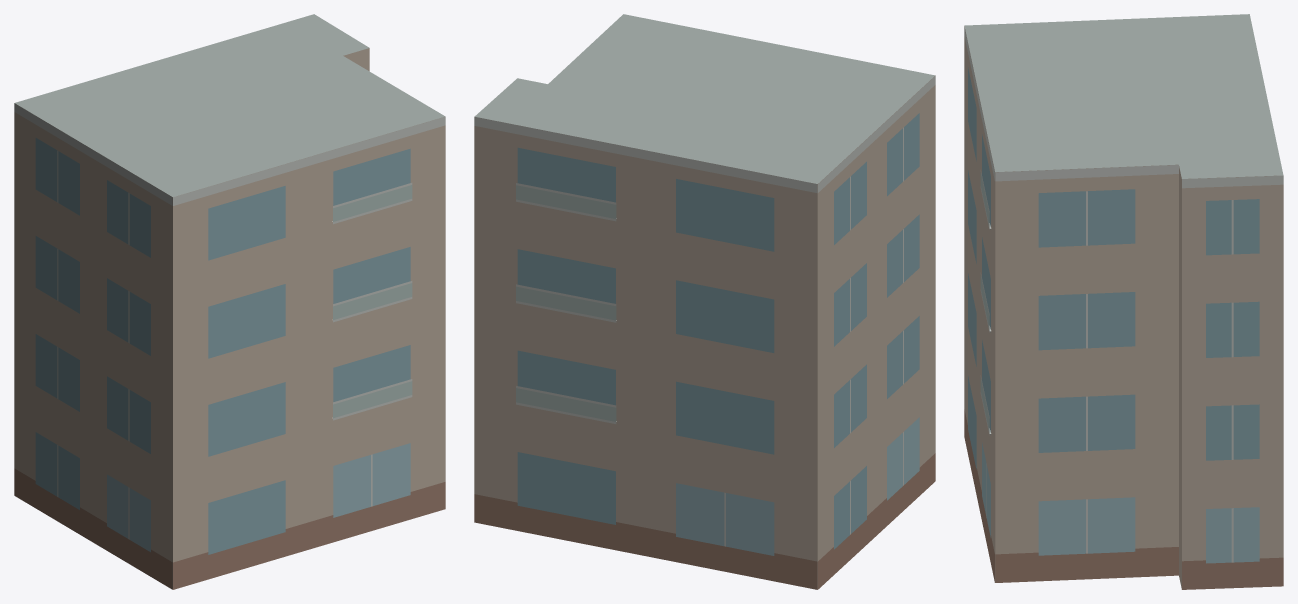
The model's file is survey-upis-32689508.glb.
The picture shows the model from 3 angles, left to right: view 1: azimuth 30°, elevation 25°; view 2: azimuth 150°, elevation 25°; view 3: azimuth 270°, elevation 25°; orthographic projection. The views are drawn at different scales.
Parts seen in each view (by area): view 1: survey-upis-32689508.tmp; view 2: survey-upis-32689508.tmp; view 3: survey-upis-32689508.tmp.
Part boxes in pixels (bbox=[...]): survey-upis-32689508.tmp: bbox=[14, 14, 445, 589]; survey-upis-32689508.tmp: bbox=[474, 14, 935, 589]; survey-upis-32689508.tmp: bbox=[964, 14, 1283, 589].
Size of the model in its own units: 9.31 by 10.8 by 7.61.
